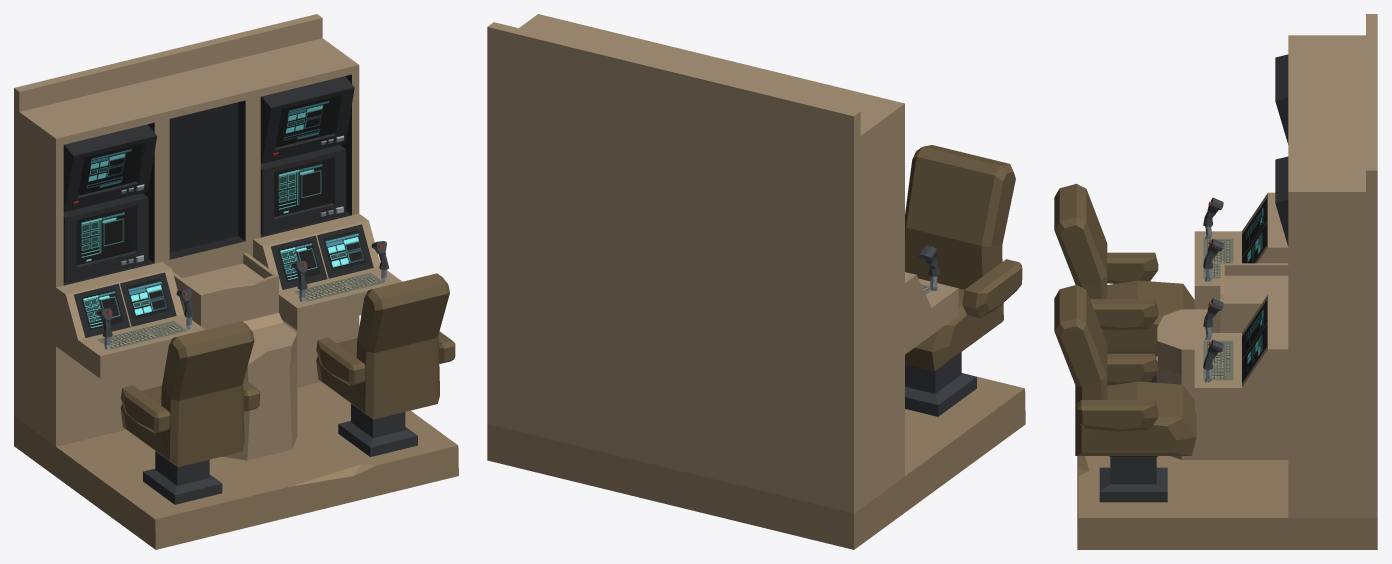
The model's file is SM_Prop_Drone_Control_Station_01.fbx.
The picture shows the model from 3 angles, left to right: view 1: azimuth 30°, elevation 25°; view 2: azimuth 150°, elevation 25°; view 3: azimuth 270°, elevation 25°; orthographic projection. The views are drawn at different scales.
Visible parts, largest first — view 1: SM_Prop_Drone_Control_Station_01; view 2: SM_Prop_Drone_Control_Station_01; view 3: SM_Prop_Drone_Control_Station_01.
Boxes of the visible parts, box(x1,y1,x2,y2) form: SM_Prop_Drone_Control_Station_01: box(14, 14, 458, 549); SM_Prop_Drone_Control_Station_01: box(487, 14, 1025, 549); SM_Prop_Drone_Control_Station_01: box(1054, 14, 1377, 549).
Bounding box in the file's own units: 213 × 241 × 186.
